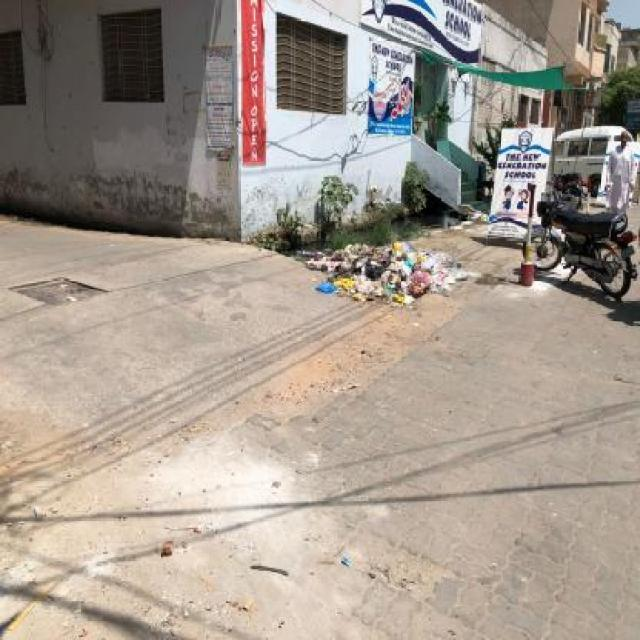garbage: (302, 243, 486, 307), (339, 551, 358, 570)
